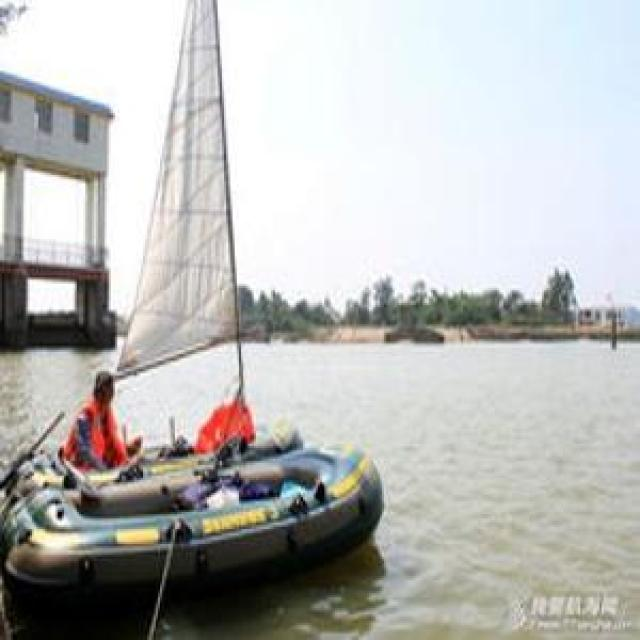sailboat: (26, 0, 316, 544)
